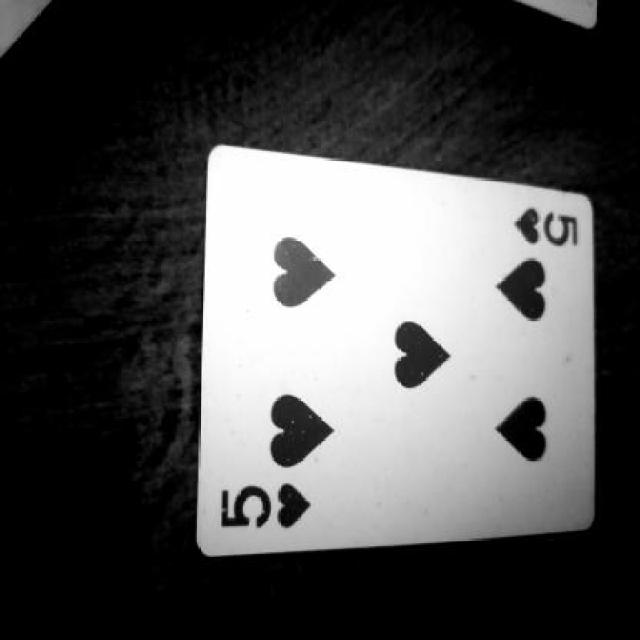5H: (496, 196, 606, 269), (200, 478, 331, 539)
